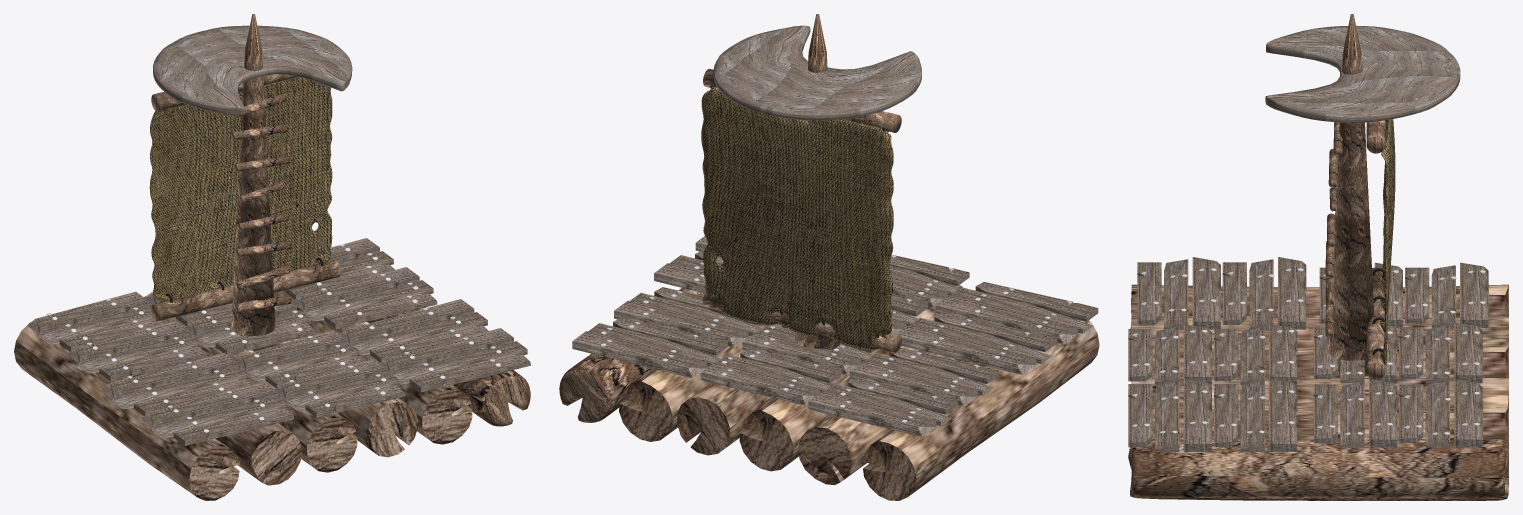
The model's file is MaxAnim@walk.fbx.
The picture shows the model from 3 angles, left to right: view 1: azimuth 30°, elevation 25°; view 2: azimuth 150°, elevation 25°; view 3: azimuth 270°, elevation 25°; orthographic projection. The views are drawn at different scales.
Parts seen in each view (by area): view 1: wood.003, Plane, Cylinder.012, churka3LP, Cylinder, churka1LP, churka1LP.002, churka2hp, churka1LP.001, churka1LP.003, Cylinder.010, bolt.003 (+1 smaller); view 2: wood.003, Plane, Cylinder.012, churka3LP, churka1LP, churka1LP.002, churka2hp, churka1LP.001, churka1LP.003, bolt.003, Cylinder, Cylinder.010 (+1 smaller); view 3: wood.003, churka1LP.003, Cylinder.012, Cylinder, churka1LP.001, churka1LP.002, churka2hp, churka1LP, churka3LP, Plane, bolt.003, Cylinder.010 (+1 smaller).
Boxes of the visible parts, x1=… form: wood.003: x1=27, y1=238, x2=530, y2=445; Plane: x1=149, y1=77, x2=332, y2=302; Cylinder.012: x1=153, y1=25, x2=352, y2=115; churka3LP: x1=14, y1=322, x2=239, y2=500; Cylinder: x1=231, y1=14, x2=275, y2=351; churka1LP: x1=144, y1=291, x2=357, y2=472; churka1LP.002: x1=274, y1=291, x2=472, y2=444; churka2hp: x1=130, y1=368, x2=301, y2=485; churka1LP.001: x1=275, y1=335, x2=417, y2=457; churka1LP.003: x1=367, y1=307, x2=530, y2=426; Cylinder.010: x1=151, y1=260, x2=340, y2=321; bolt.003: x1=46, y1=244, x2=501, y2=432; wood.003: x1=572, y1=236, x2=1098, y2=436; Plane: x1=701, y1=87, x2=893, y2=349; Cylinder.012: x1=713, y1=25, x2=921, y2=120; churka3LP: x1=863, y1=318, x2=1099, y2=500; churka1LP: x1=739, y1=283, x2=962, y2=471; churka1LP.002: x1=619, y1=322, x2=781, y2=441; churka2hp: x1=798, y1=350, x2=983, y2=485; churka1LP.001: x1=677, y1=383, x2=772, y2=455; churka1LP.003: x1=559, y1=288, x2=704, y2=422; bolt.003: x1=601, y1=255, x2=1072, y2=423; Cylinder: x1=794, y1=14, x2=840, y2=350; Cylinder.010: x1=703, y1=291, x2=901, y2=352; wood.003: x1=1128, y1=257, x2=1488, y2=451; churka1LP.003: x1=1130, y1=438, x2=1508, y2=500; Cylinder.012: x1=1265, y1=25, x2=1460, y2=122; Cylinder: x1=1328, y1=14, x2=1373, y2=376; churka1LP.001: x1=1131, y1=378, x2=1508, y2=408; churka1LP.002: x1=1128, y1=407, x2=1508, y2=469; churka2hp: x1=1131, y1=316, x2=1508, y2=347; churka1LP: x1=1131, y1=347, x2=1508, y2=383; churka3LP: x1=1130, y1=284, x2=1508, y2=328; Plane: x1=1380, y1=119, x2=1395, y2=364; bolt.003: x1=1132, y1=268, x2=1485, y2=435; Cylinder.010: x1=1366, y1=267, x2=1385, y2=379.
Size of the model in its own units: 16955 by 16988 by 14422.
